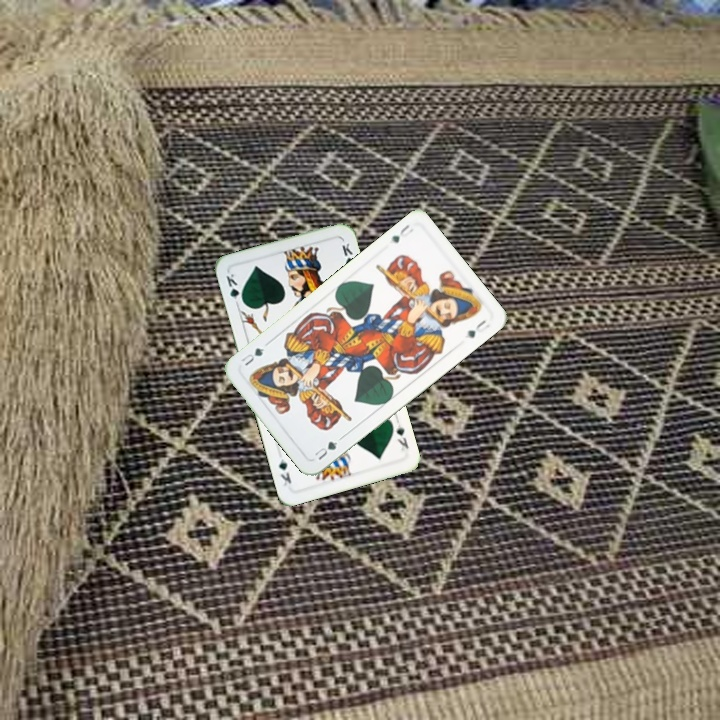GK: (222, 269, 246, 309), (392, 417, 411, 454)
GU: (309, 437, 340, 463), (387, 220, 416, 245)
